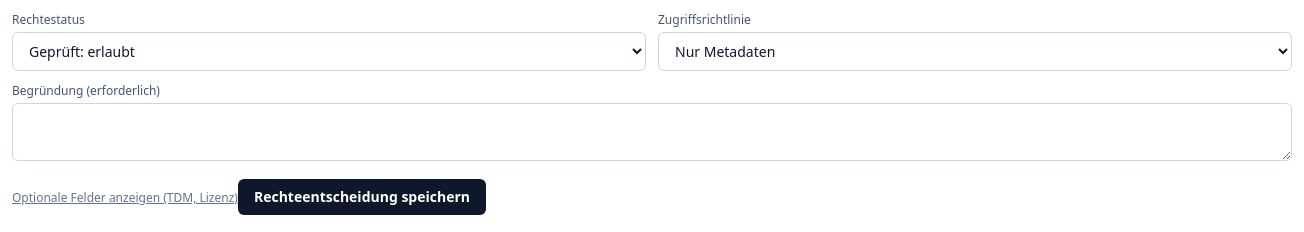
Test case: RightsDecisionForm › restricts access_policy to ['blocked'] and auto-selects it when rights_status is set to 'blocked'
Select "Gesperrt" in the dropdown labelled "Rechtestatus": point(329, 52) [12, 32, 646, 71]
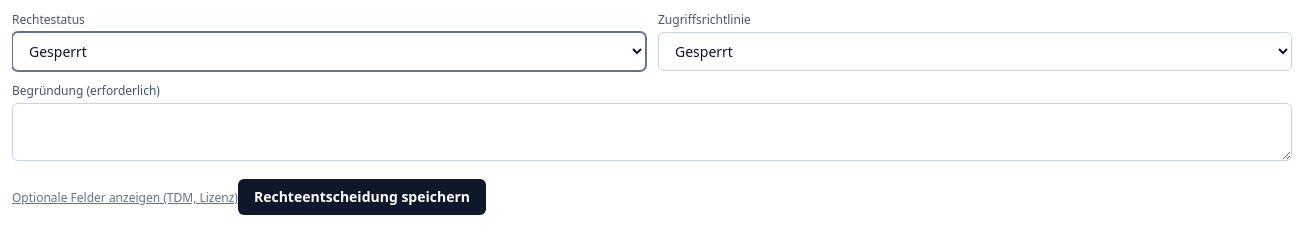
Now the dropdown labelled "Zugriffsrichtlinie" shows "Gesperrt", box [658, 32, 1292, 71]
